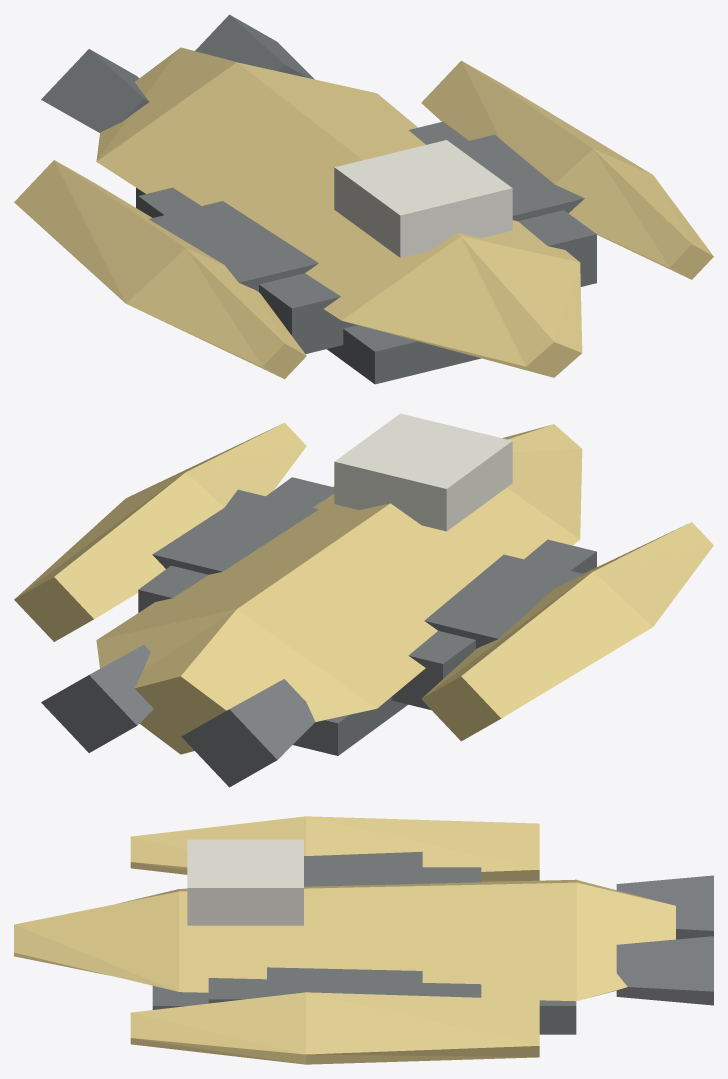
The picture shows the model from 3 angles, top to bottom: view 1: azimuth 30°, elevation 25°; view 2: azimuth 150°, elevation 25°; view 3: azimuth 270°, elevation 25°; orthographic projection. The views are drawn at different scales.
Bounding box in the file's own units: 6.15 × 1.69 × 7.98.
